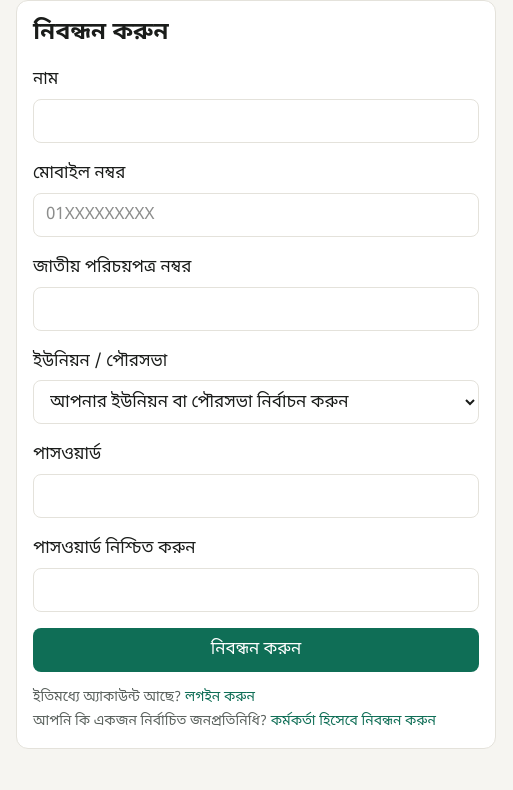
Test: Register › refuses 01540787241 as a name — that is a phone number in the wrong box
Type "01540787241" into the field labelled "নাম".
click(256, 121); type("01540787241")  # box [33,99,479,143]
Type "01810000001" into the field labelled "মোবাইল নম্বর".
click(256, 215); type("01810000001")  # box [33,193,479,237]
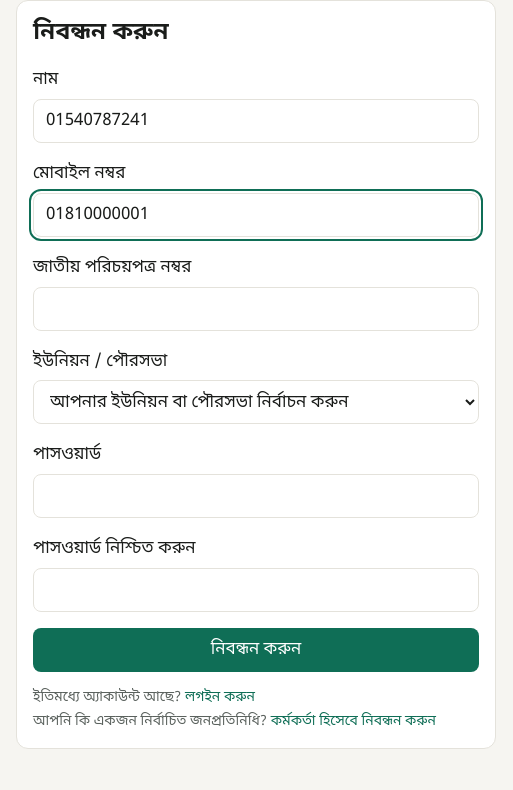
Type "1234567890111" into the field labelled "জাতীয় পরিচয়পত্র নম্বর".
click(256, 309); type("1234567890111")  # box [33,287,479,331]
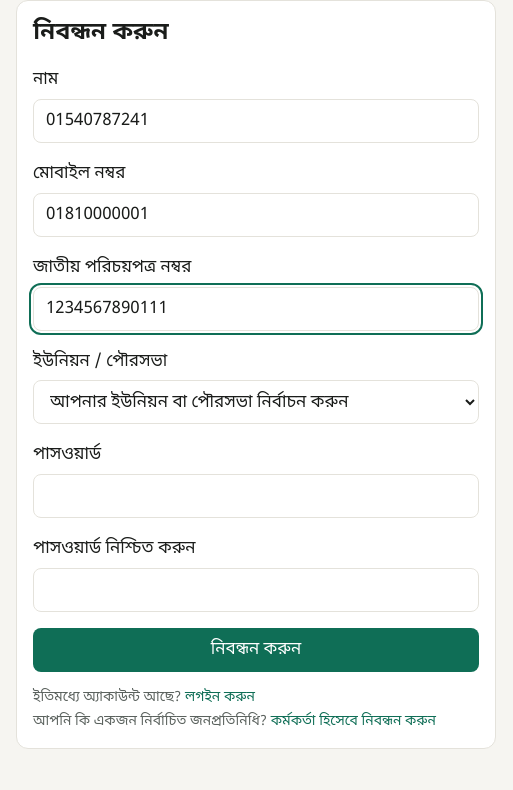
Type "resident123" into the password field labelled "পাসওয়ার্ড".
click(256, 496); type("resident123")  # box [33,474,479,518]
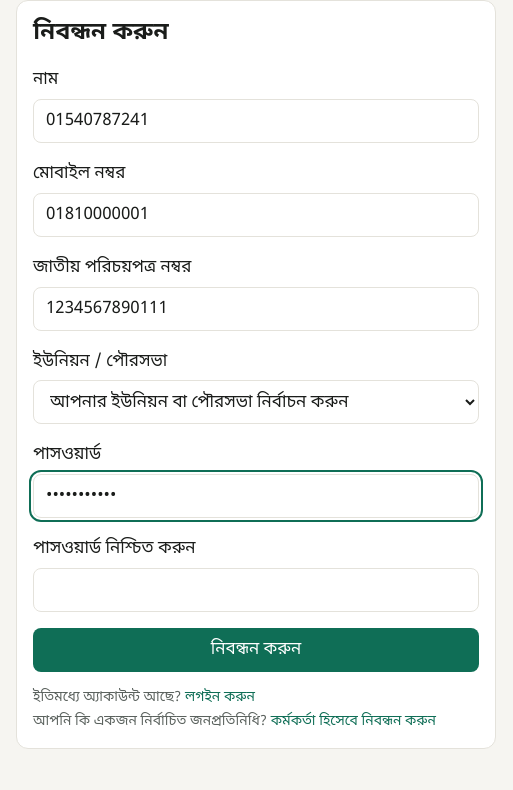
Type "resident123" into the password field labelled "পাসওয়ার্ড নিশ্চিত করুন".
click(256, 590); type("resident123")  # box [33,568,479,612]
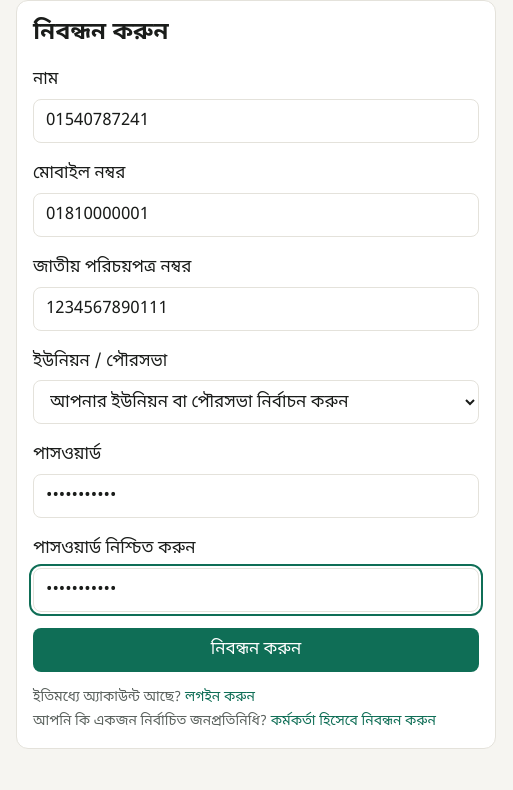
Select "ধামইরহাট ইউনিয়ন" in the dropdown labelled "ইউনিয়ন / পৌরসভা" at {"x": 256, "y": 402}, box [33,380,479,424]
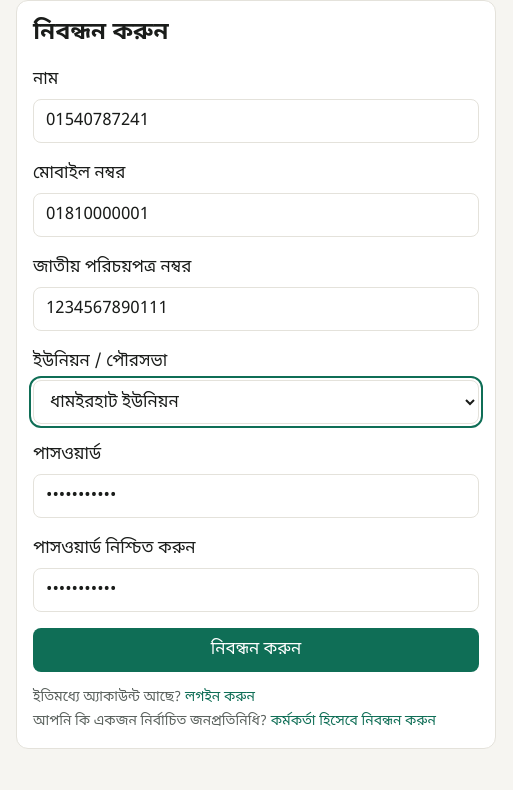
Click the button "নিবন্ধন করুন".
click(256, 650)  # box [33,628,479,672]
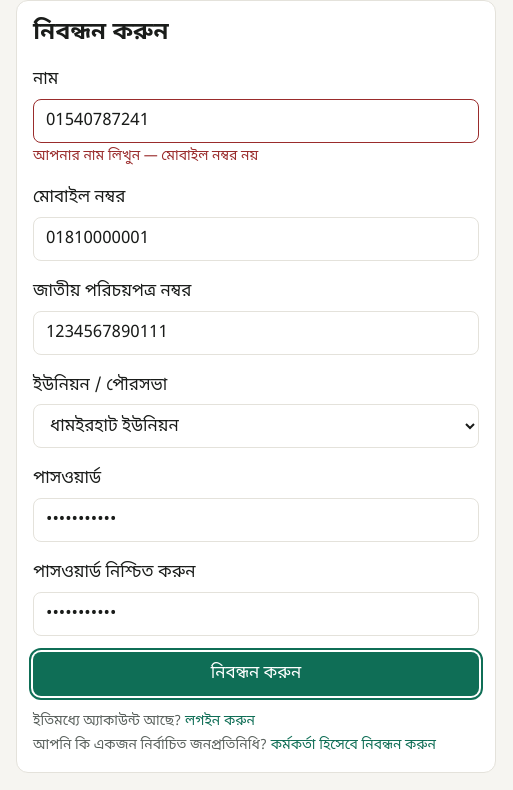
Expected: the text "আপনার নাম লিখুন — মোবাইল নম্বর নয়" is shown, [33,147,258,166]
